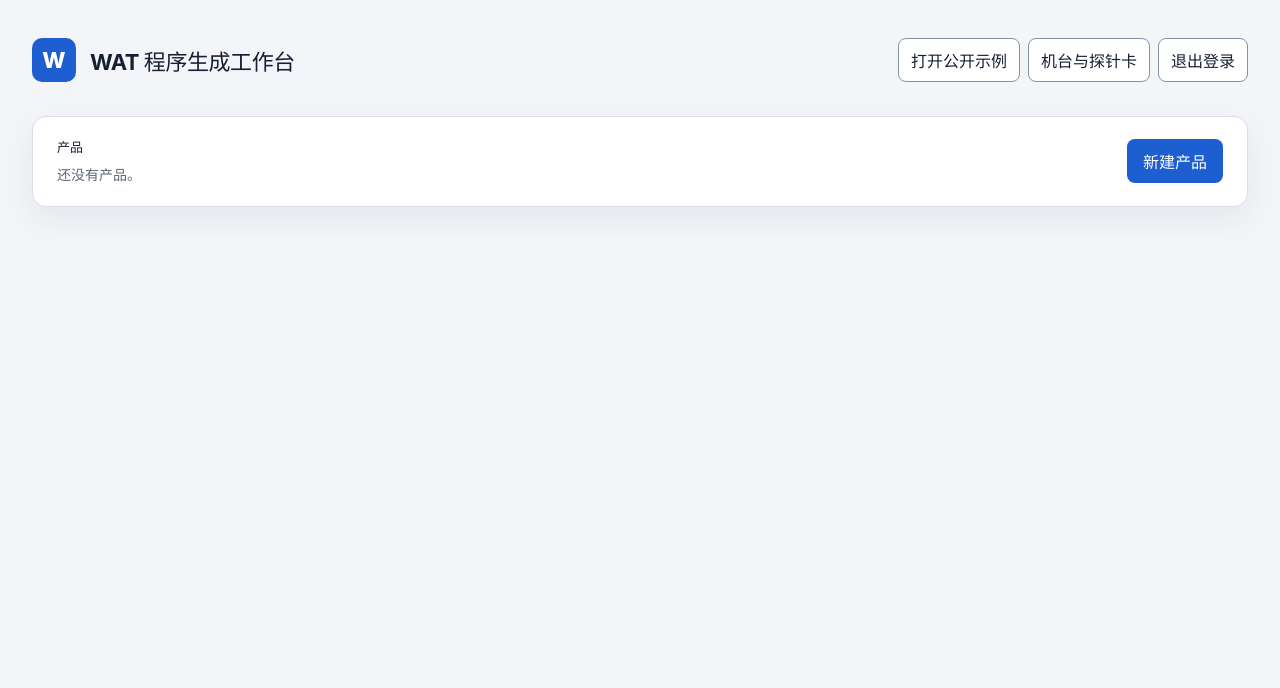
WAT pilot › shows an actionable validation summary when generation is blocked
Click the button "打开公开示例": click(959, 60) [898,38,1020,82]
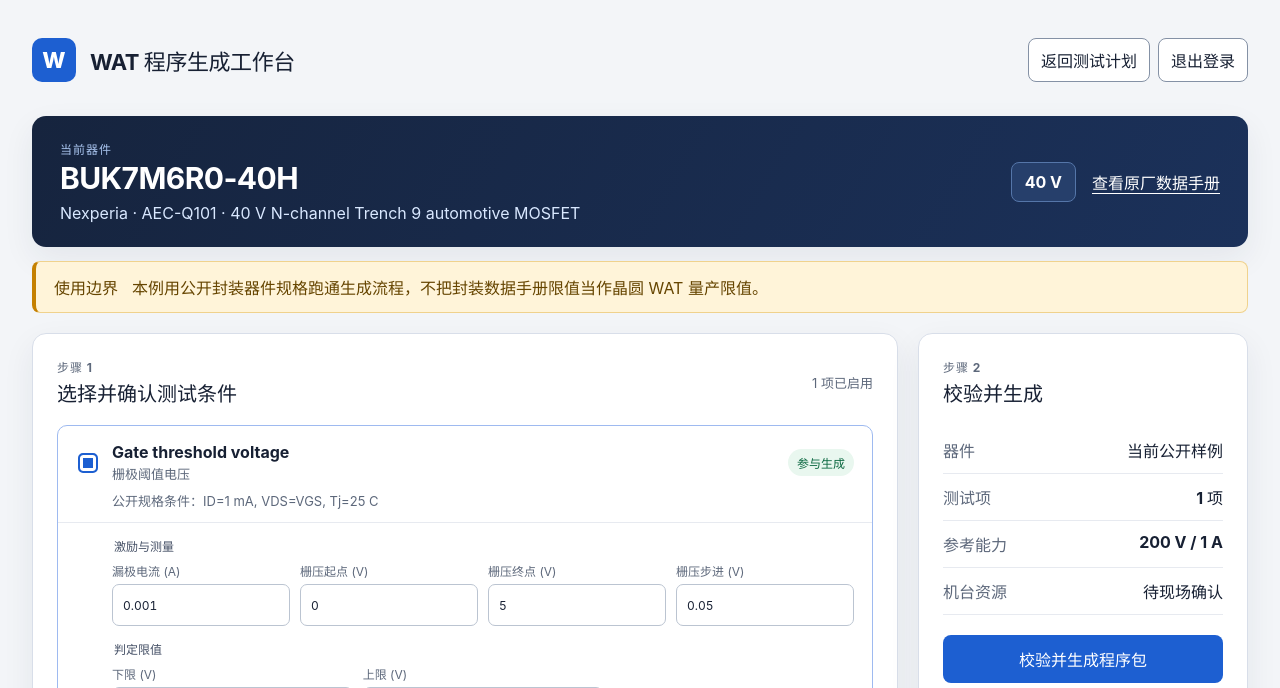
Now the heading "BUK7M6R0-40H" is shown, box [60,160,298,196]
Click the button "校验并生成程序包": click(1083, 659) [943,635,1223,683]
(page scrolled)
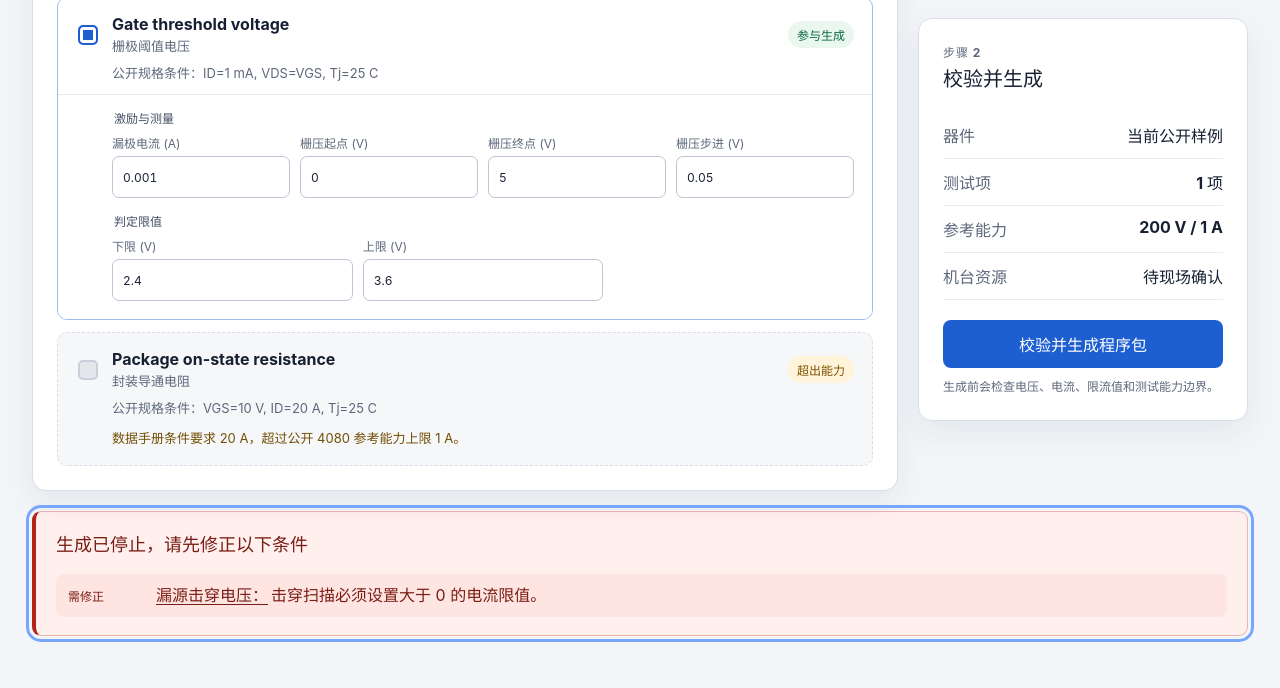
Now the message shows "击穿扫描必须设置大于 0 的电流限值。", box [271,584,546,604]
